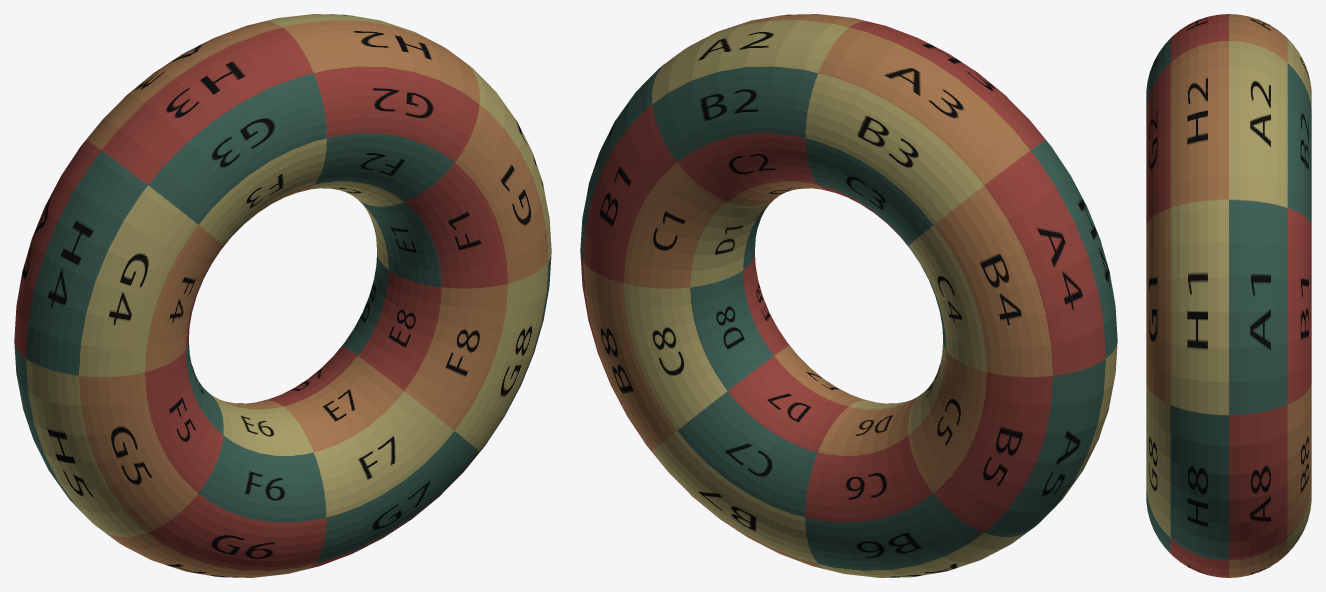
Rendered from texture_torus_R21_r30.glb.
3 views of the same model, side by side, from view 1: azimuth 30°, elevation 25°; view 2: azimuth 150°, elevation 25°; view 3: azimuth 270°, elevation 25° (orthographic). The views are drawn at different scales.
Visible parts, largest first — view 1: world; view 2: world; view 3: world.
Part boxes in pixels (left/top/right/bottom): world: left=14, top=14, right=551, bottom=577; world: left=580, top=14, right=1117, bottom=577; world: left=1146, top=14, right=1311, bottom=577.
Size of the model in its own units: 34 by 33.93 by 9.98.
Materials: 1 (1 with a texture image).
